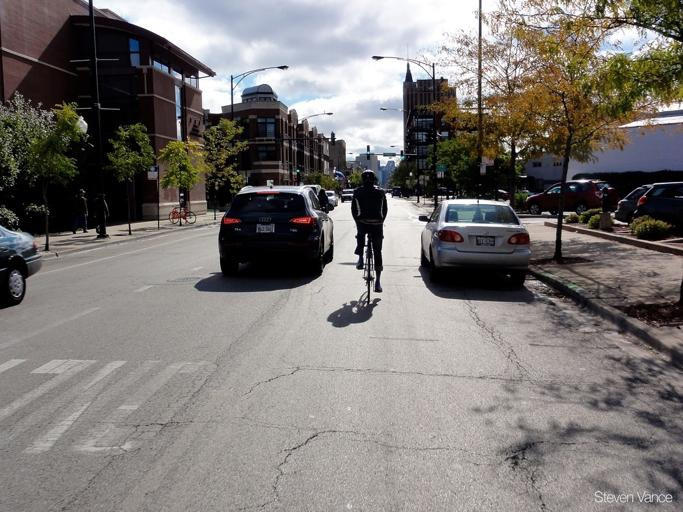non-vehicle: (363, 231, 373, 306), (168, 205, 196, 224)
